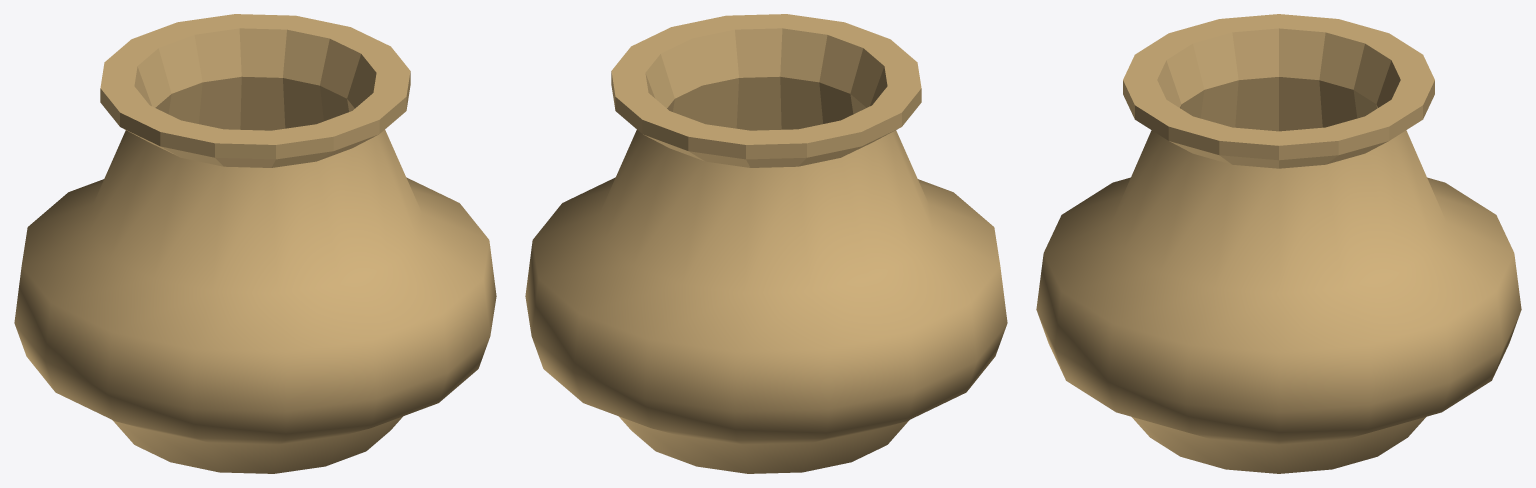
The model's file is SM_pottery_04.fbx.
3 views of the same model, side by side, from view 1: azimuth 30°, elevation 25°; view 2: azimuth 150°, elevation 25°; view 3: azimuth 270°, elevation 25° (orthographic).
Parts seen in each view (by area): view 1: pottery_04; view 2: pottery_04; view 3: pottery_04.
Boxes of the visible parts, x1=… form: pottery_04: x1=14, y1=14, x2=496, y2=473; pottery_04: x1=525, y1=14, x2=1007, y2=473; pottery_04: x1=1036, y1=14, x2=1521, y2=473.
Bounding box in the file's own units: 76.14 × 58.02 × 76.14.
